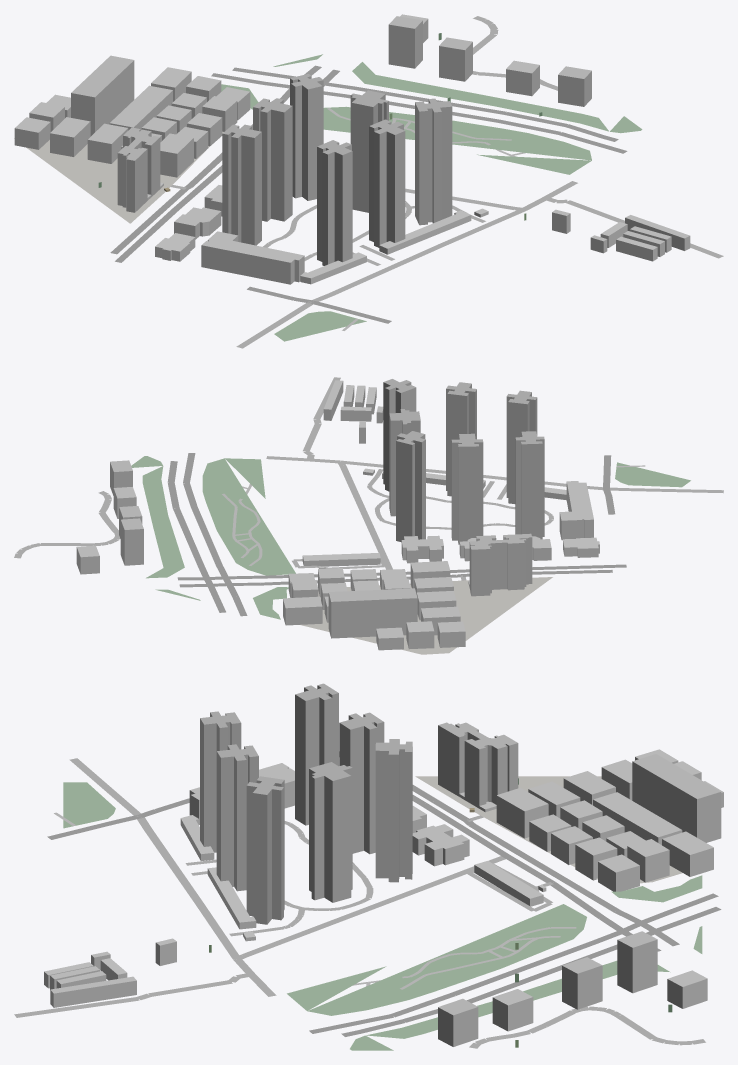
The picture shows the model from 3 angles, top to bottom: view 1: azimuth 30°, elevation 25°; view 2: azimuth 150°, elevation 25°; view 3: azimuth 270°, elevation 25°; orthographic projection. The views are drawn at different scales.
Bounding box in the file's own units: 550 × 114 × 556.
